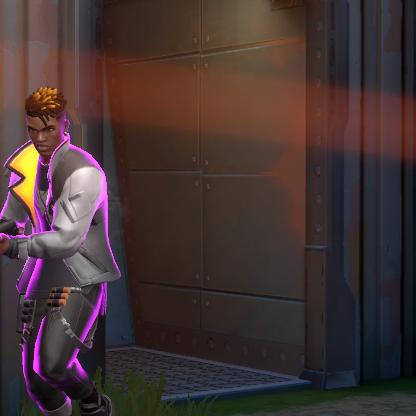enemyBody: (7, 157, 112, 335)
enemyHead: (24, 97, 74, 149)
